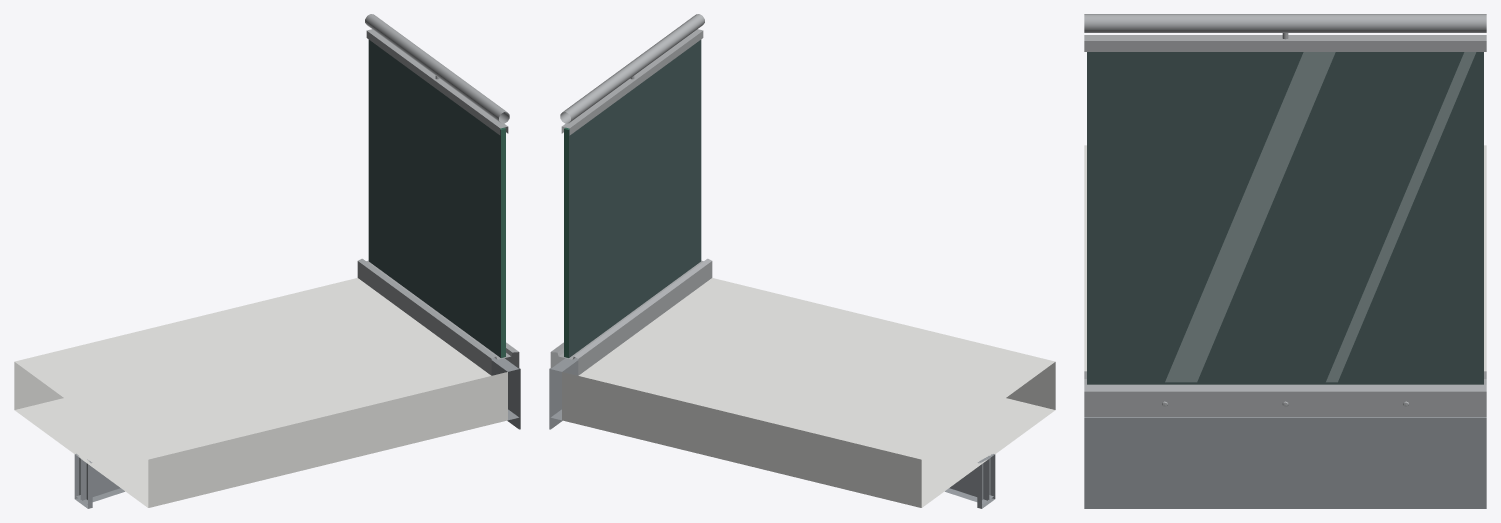
Rendered from walkway_glass.glb.
3 views of the same model, side by side, from view 1: azimuth 30°, elevation 25°; view 2: azimuth 150°, elevation 25°; view 3: azimuth 270°, elevation 25° (orthographic). The views are drawn at different scales.
Visible parts, largest first — view 1: galerie; view 2: galerie; view 3: galerie.
Part boxes in pixels (x1,y1,x2,y2): galerie: [14, 14, 520, 508]; galerie: [549, 14, 1055, 508]; galerie: [1084, 14, 1486, 508].
Size of the model in its own units: 1.61 by 1.46 by 1.
